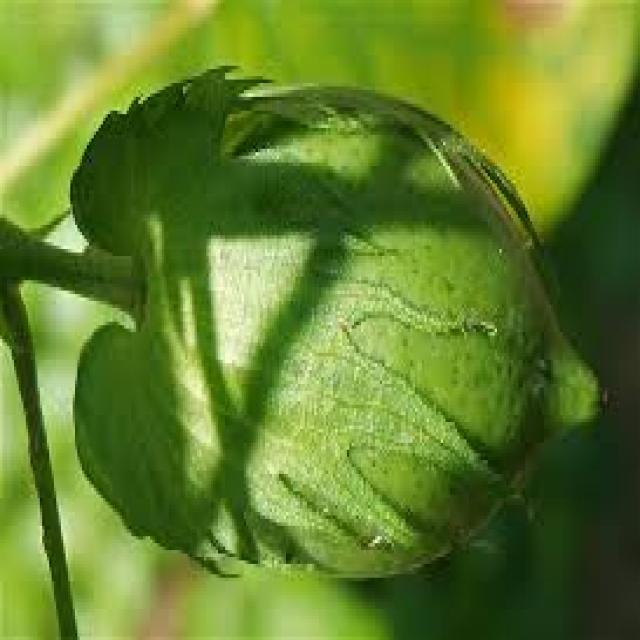Early Boll: (68, 65, 610, 588)
